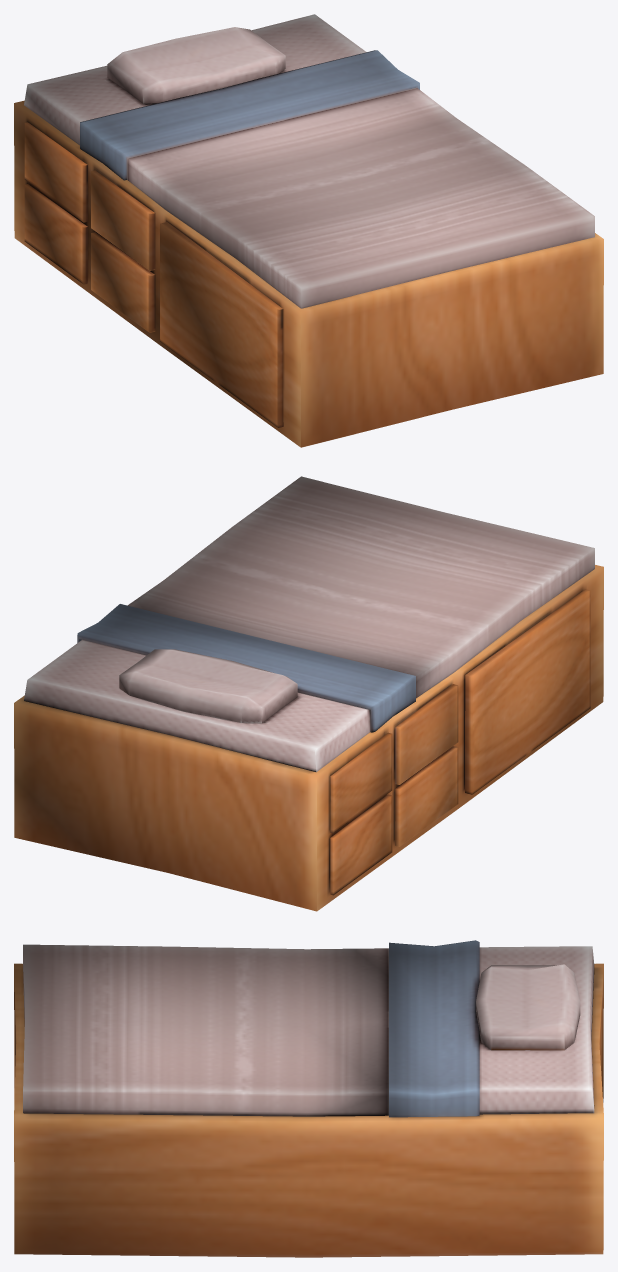
The model's file is Bed4.fbx.
The picture shows the model from 3 angles, top to bottom: view 1: azimuth 30°, elevation 25°; view 2: azimuth 150°, elevation 25°; view 3: azimuth 270°, elevation 25°; orthographic projection. The views are drawn at different scales.
Visible parts, largest first — view 1: Bed MODULO 05; view 2: Bed MODULO 05; view 3: Bed MODULO 05.
Boxes of the visible parts, bbox=[...] form: Bed MODULO 05: bbox=[14, 14, 603, 447]; Bed MODULO 05: bbox=[14, 476, 603, 911]; Bed MODULO 05: bbox=[14, 940, 603, 1257].
Bounding box in the file's own units: 99.94 × 56.26 × 161.
